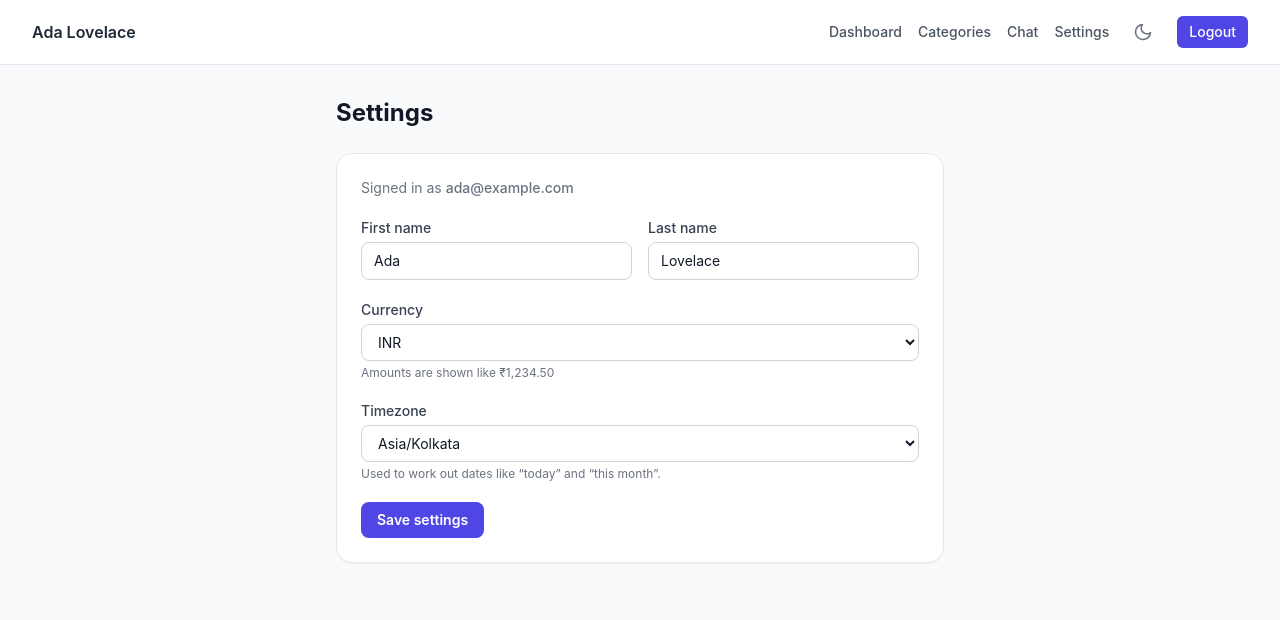
Test case: SettingsPage › sends only changed fields and shows the saved profile
Select "USD" in the dropdown labelled "Currency" at (640, 342), box [361,324,919,361]
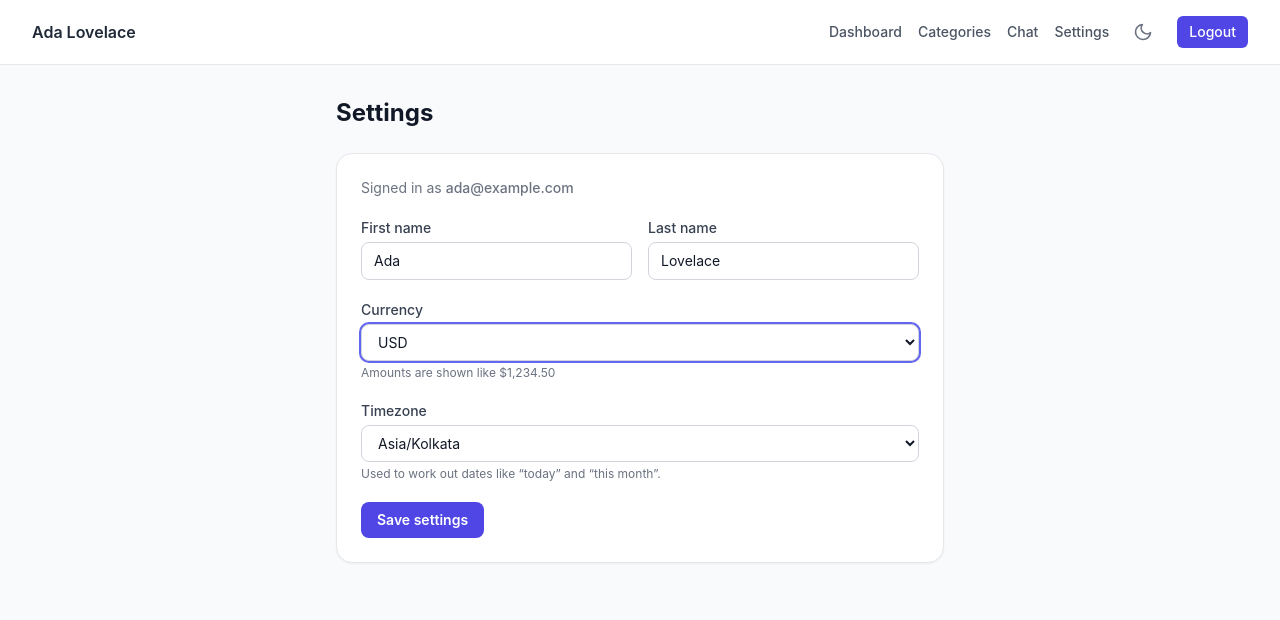
Select "UTC" in the dropdown labelled "Timezone" at (640, 444), box [361,425,919,462]
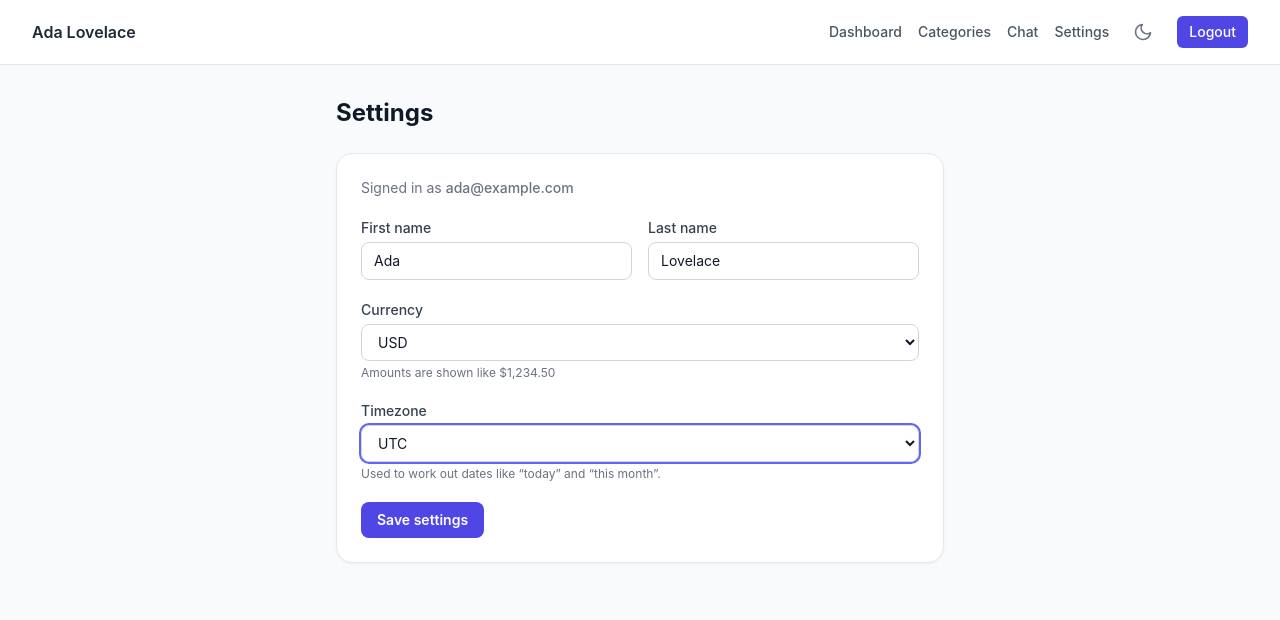
Click the button "Save settings" at (423, 520), box [361,502,484,538]
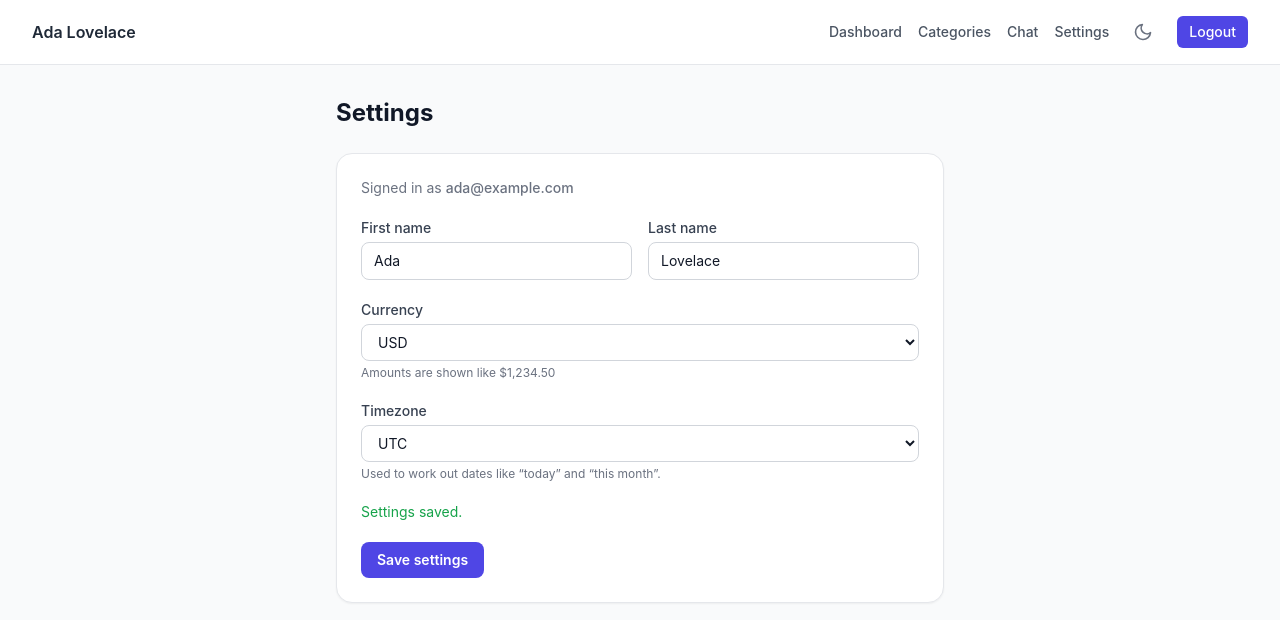
Expected: the text "Settings saved." is shown, [361,503,462,520]
